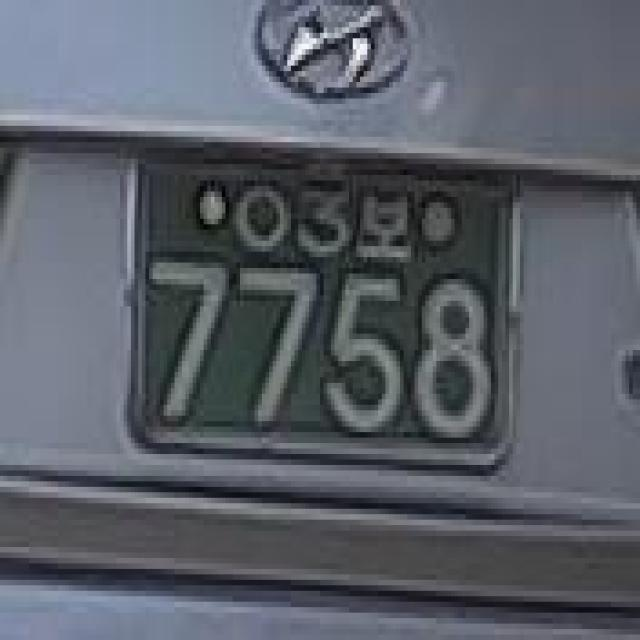illegal_plate: (111, 129, 534, 493)
